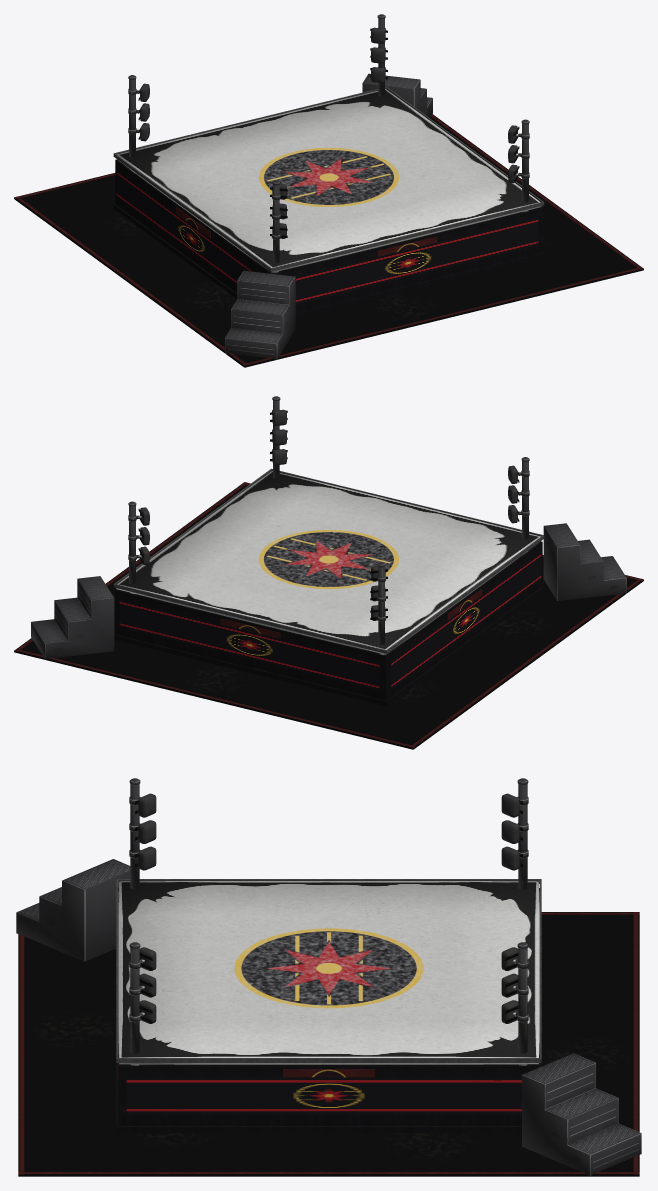
File: ring_hall.glb
3 views of the same model, one above another, from view 1: azimuth 30°, elevation 25°; view 2: azimuth 150°, elevation 25°; view 3: azimuth 270°, elevation 25° (orthographic). The views are drawn at different scales.
Visible parts, largest first — view 1: ring_Hero_ring_canvas_18__white, ring_Kit_rubber_tiles, ring_Kit_fabric_leather_02, ring_Art_Apron, ring_Decal_Logo, ring_Hero_ring_steps_110__black, ring_Hero_ring_pad__neutral__Pad_Black, ring_Hero_ring_post__black, ring_Decal_Grime; view 2: ring_Hero_ring_canvas_18__white, ring_Kit_rubber_tiles, ring_Kit_fabric_leather_02, ring_Art_Apron, ring_Hero_ring_steps_110__black, ring_Decal_Logo, ring_Hero_ring_pad__neutral__Pad_Black, ring_Hero_ring_post__black, ring_Decal_Grime; view 3: ring_Hero_ring_canvas_18__white, ring_Kit_rubber_tiles, ring_Kit_fabric_leather_02, ring_Hero_ring_steps_110__black, ring_Art_Apron, ring_Decal_Logo, ring_Hero_ring_pad__neutral__Pad_Black, ring_Hero_ring_post__black, ring_Decal_Grime.
Part boxes in pixels (x1,y1,x2,y2): ring_Hero_ring_canvas_18__white: (117, 89, 541, 272); ring_Kit_rubber_tiles: (14, 114, 643, 367); ring_Kit_fabric_leather_02: (15, 86, 642, 365); ring_Art_Apron: (116, 170, 538, 303); ring_Decal_Logo: (185, 147, 418, 251); ring_Hero_ring_steps_110__black: (225, 73, 432, 359); ring_Hero_ring_pad__neutral__Pad_Black: (138, 27, 519, 238); ring_Hero_ring_post__black: (128, 14, 529, 262); ring_Decal_Grime: (110, 217, 546, 318); ring_Hero_ring_canvas_18__white: (116, 471, 540, 654); ring_Kit_rubber_tiles: (14, 482, 643, 749); ring_Kit_fabric_leather_02: (15, 468, 642, 747); ring_Art_Apron: (119, 552, 541, 690); ring_Hero_ring_steps_110__black: (31, 523, 626, 659); ring_Decal_Logo: (239, 530, 472, 633); ring_Hero_ring_pad__neutral__Pad_Black: (138, 409, 519, 620); ring_Hero_ring_post__black: (128, 396, 529, 644); ring_Decal_Grime: (185, 612, 546, 700); ring_Hero_ring_canvas_18__white: (118, 881, 539, 1064); ring_Kit_rubber_tiles: (18, 912, 639, 1176); ring_Kit_fabric_leather_02: (18, 879, 639, 1174); ring_Hero_ring_steps_110__black: (16, 859, 641, 1175); ring_Art_Apron: (126, 1077, 521, 1114); ring_Decal_Logo: (234, 928, 423, 1077); ring_Hero_ring_pad__neutral__Pad_Black: (135, 793, 522, 1023); ring_Hero_ring_post__black: (129, 778, 528, 1053); ring_Decal_Grime: (34, 1012, 623, 1158).
Size of the model in its own units: 8.13 by 2.64 by 8.2.
Materials: 10 (10 with a texture image).
